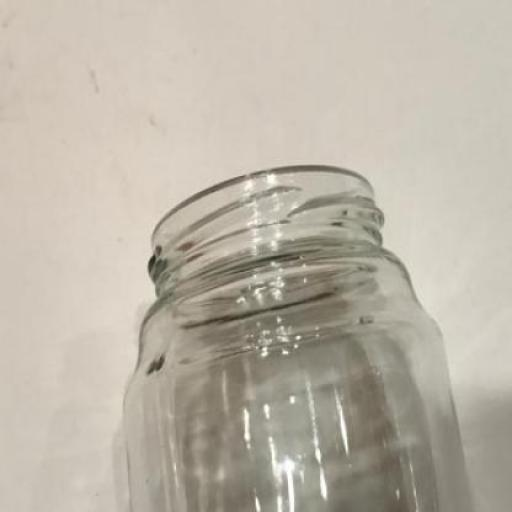glass: (122, 164, 468, 510)
